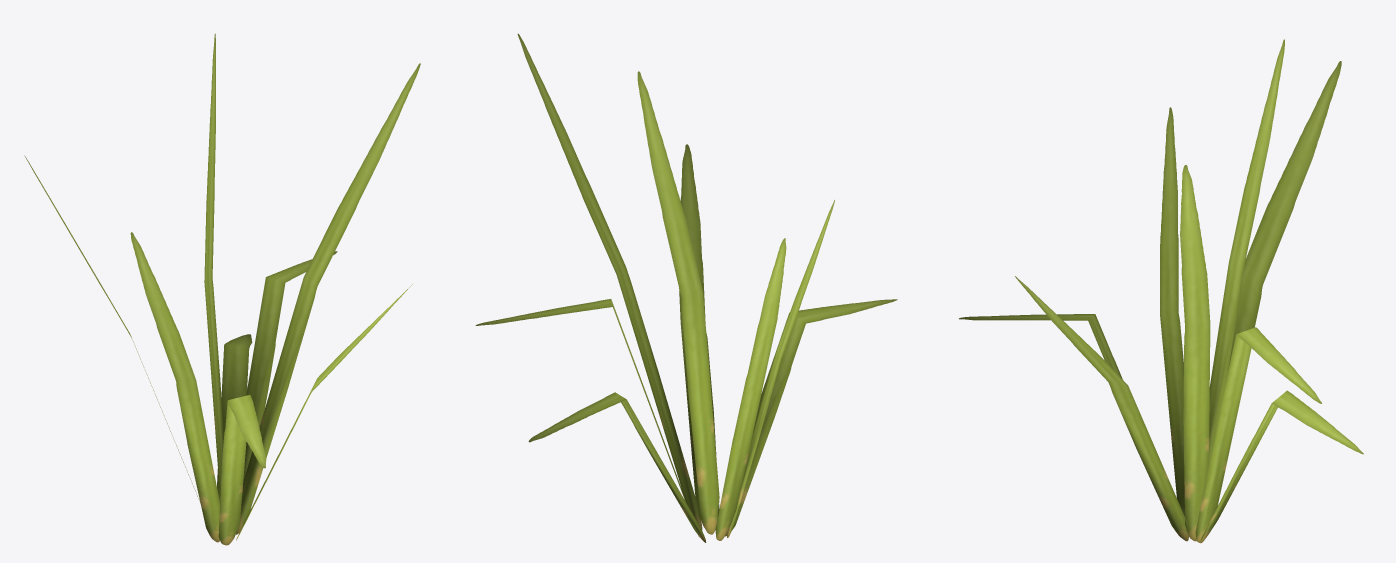
Rendered from grass 01_lod2.obj.
3 views of the same model, side by side, from view 1: azimuth 30°, elevation 25°; view 2: azimuth 150°, elevation 25°; view 3: azimuth 270°, elevation 25° (orthographic). The views are drawn at different scales.
Parts seen in each view (by area): view 1: tree; view 2: tree; view 3: tree.
Part boxes in pixels (x1,y1,x2,y2): tree: [24, 33, 420, 545]; tree: [475, 33, 897, 542]; tree: [959, 39, 1363, 543].
Size of the model in its own units: 80.05 by 110 by 81.07.
